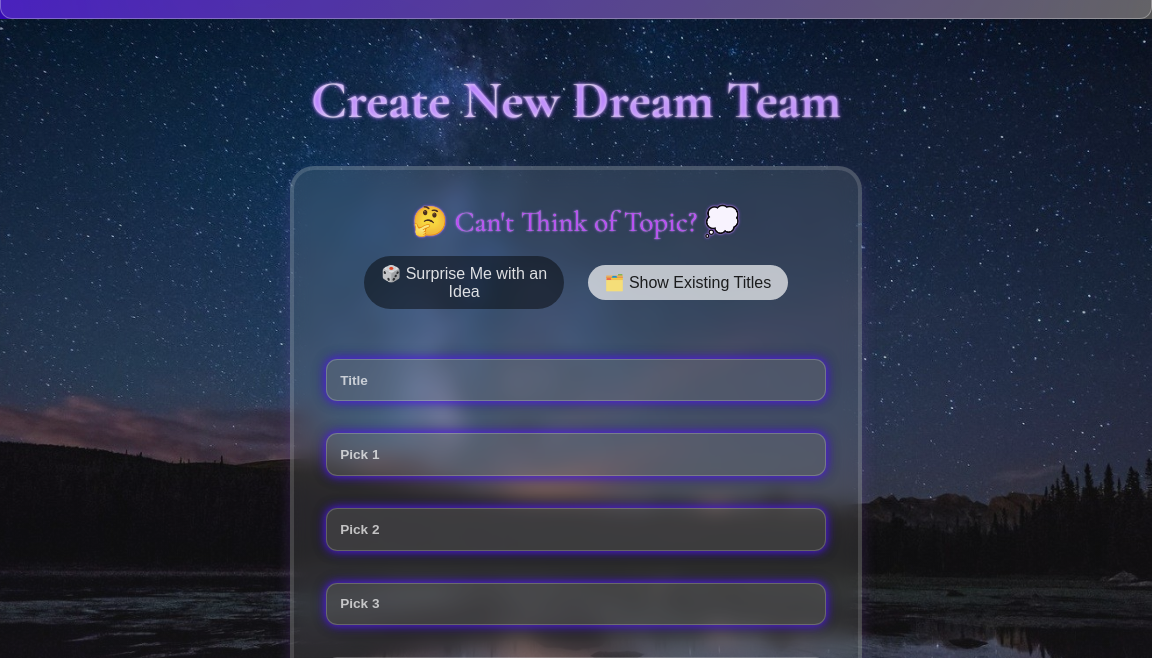
it: CreateDream › shows error if picks are not unique
Type "Dream Title" into the field with placeholder "Title". click: coordinates (576, 380)
box: [326, 359, 826, 401]
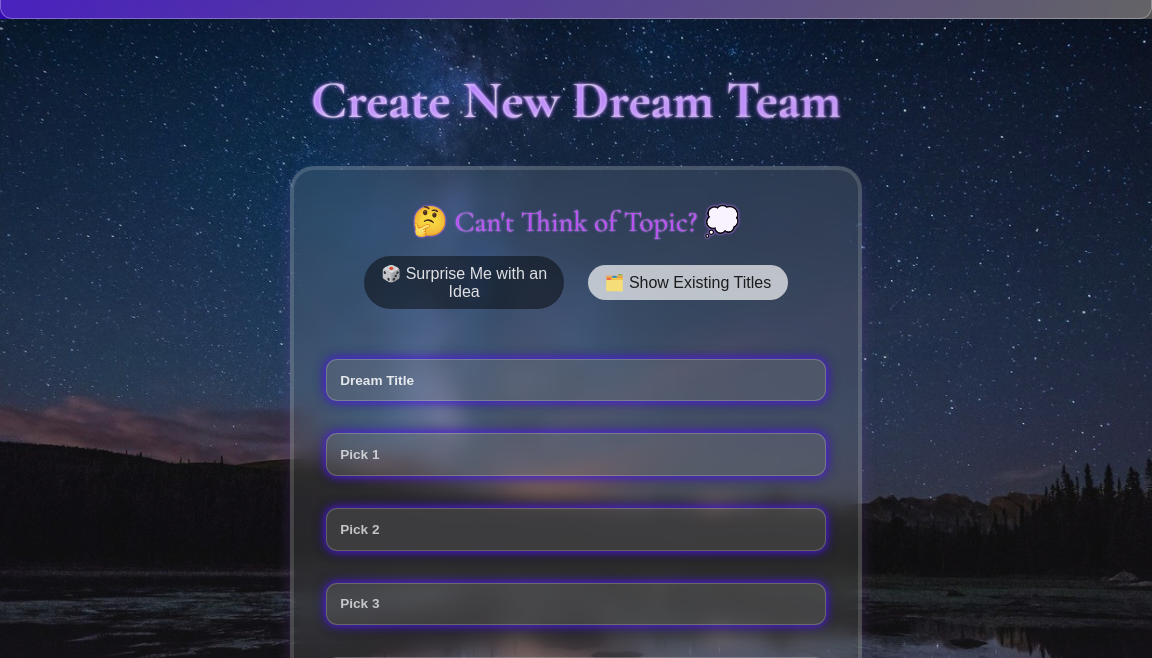
Type "pick 1" into the field with placeholder "Pick 1". click: coordinates (576, 455)
box: [326, 433, 826, 476]
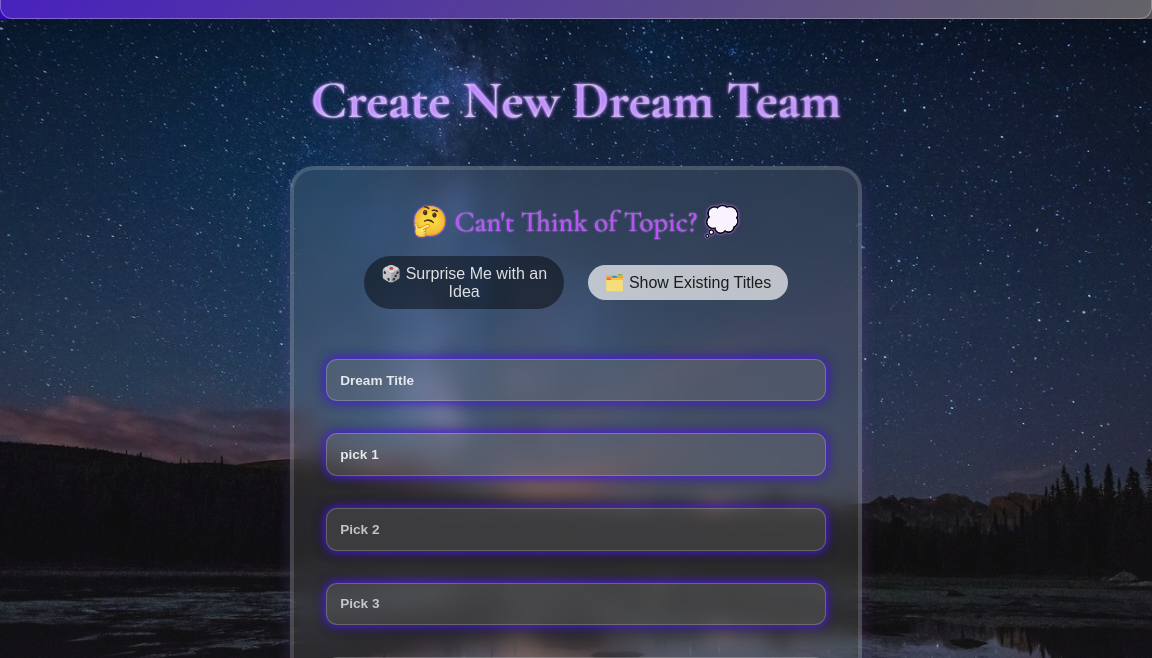
Type "pick 1" into the field with placeholder "Pick 2". click: coordinates (576, 529)
box: [326, 508, 826, 550]
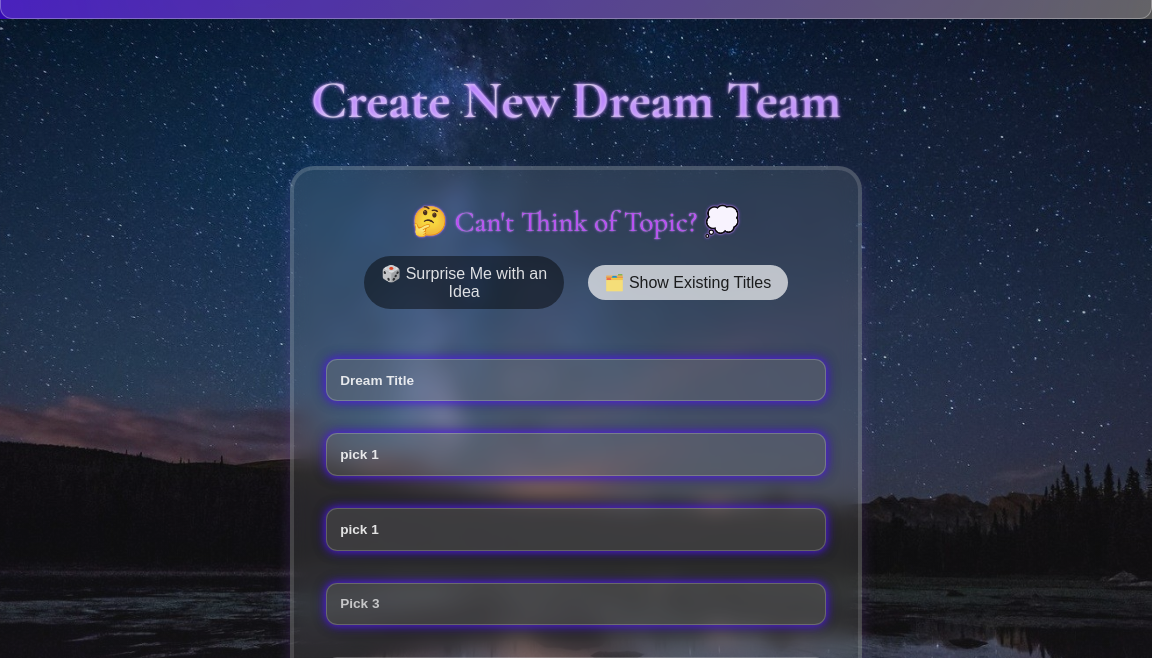
Type "pick 3" into the field with placeholder "Pick 3". click: coordinates (576, 604)
box: [326, 582, 826, 625]
(page scrolled)
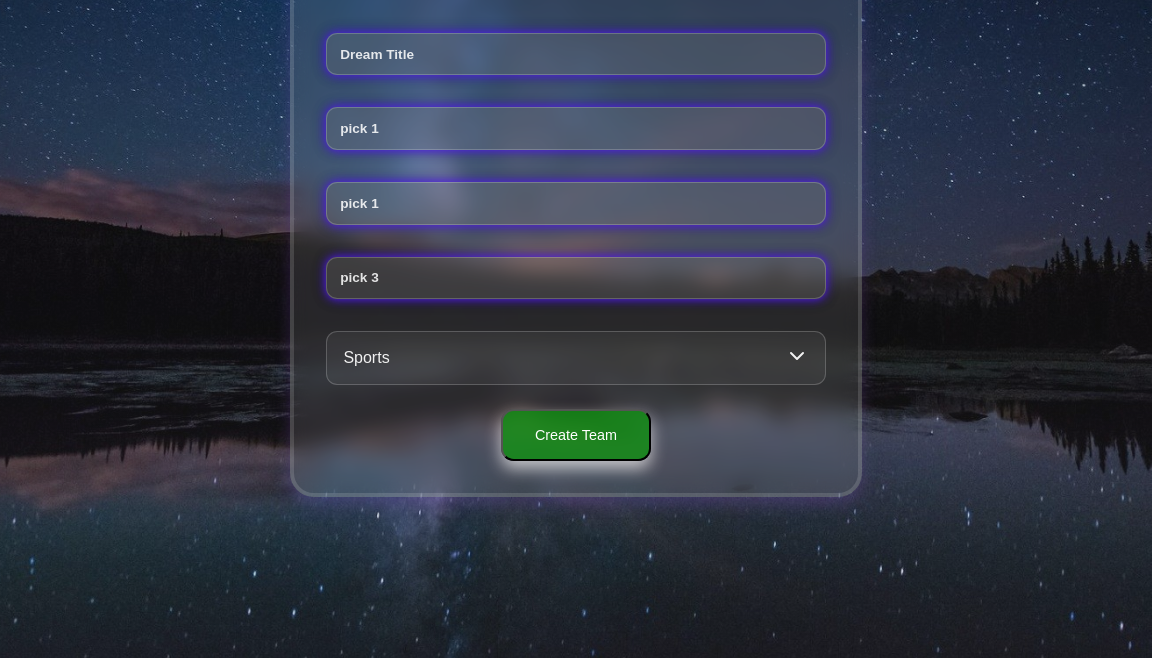
Click the button "Create Team". click: coordinates (576, 435)
box: [501, 409, 651, 461]
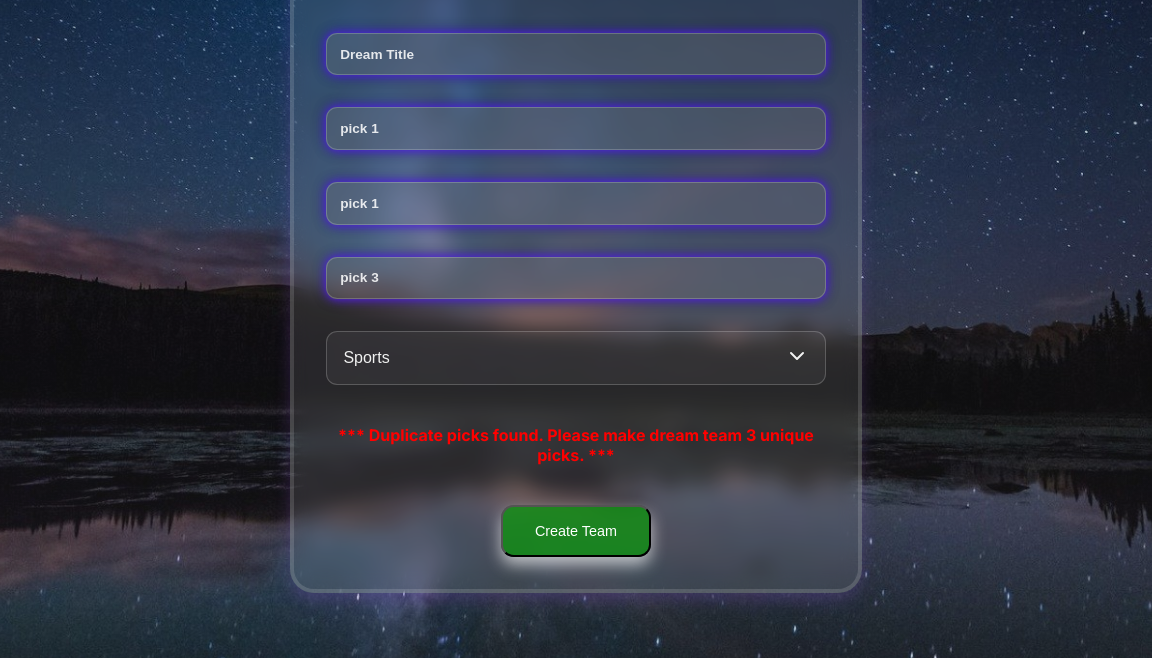
expect the text "Duplicate picks found" is shown: met, box [369, 425, 814, 465]
